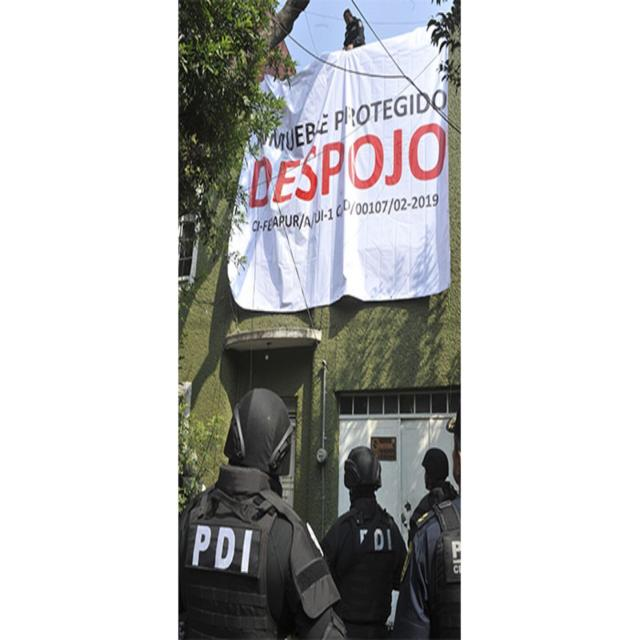stamps: (231, 48, 451, 301)
